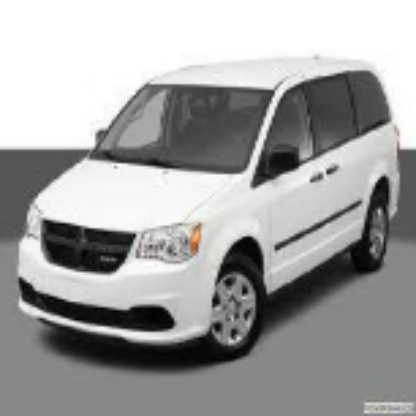Vehicle: (14, 51, 402, 369)
